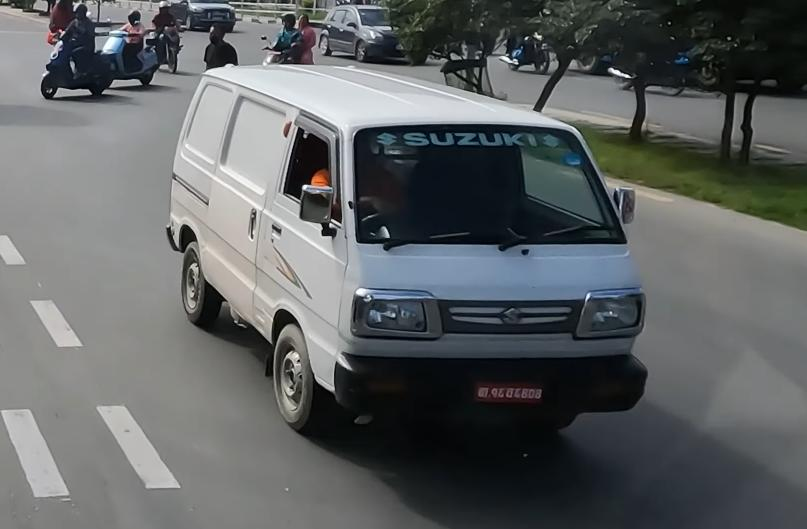car: (319, 0, 428, 64), (162, 0, 239, 33)
scooter: (38, 32, 108, 103), (102, 26, 161, 89)
van: (166, 58, 648, 445)
